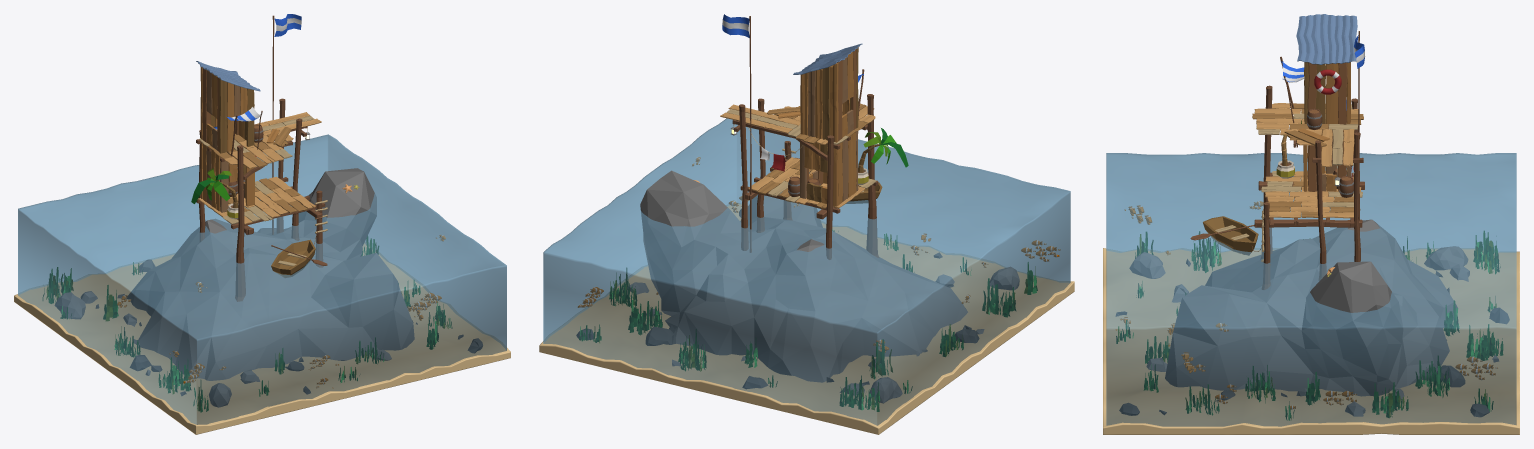
The model's file is low_poly_sea_port.glb.
The picture shows the model from 3 angles, left to right: view 1: azimuth 30°, elevation 25°; view 2: azimuth 150°, elevation 25°; view 3: azimuth 270°, elevation 25°; orthographic projection. The views are drawn at different scales.
Parts seen in each view (by area): view 1: Water Surface_2, Main Rock_63, Sand_61, Walls_68, Support Beams_66, Wood Plank Floors_71, Seaweed.296_0, Rock Support Light_64, TILES.052_70, TILES.041_69, Boat_26, Rock Support Dark_62 (+2 smaller); view 2: Water Surface_2, Main Rock_63, Sand_61, Walls_68, Support Beams_66, Seaweed.296_0, Wood Plank Floors_71, Rock Support Light_64, Rock Support Dark_62, TILES.052_70, TILES.041_69, Roof_67 (+1 smaller); view 3: Water Surface_2, Main Rock_63, Sand_61, Seaweed.296_0, Support Beams_66, Walls_68, Wood Plank Floors_71, Roof_67, Rock Support Light_64, TILES.052_70, TILES.041_69, Boat_26 (+5 smaller).
Part boxes in pixels (x1,y1,x2,y2): Water Surface_2: (18, 134, 506, 424); Main Rock_63: (126, 168, 414, 380); Sand_61: (14, 242, 510, 434); Walls_68: (200, 67, 254, 212); Support Beams_66: (196, 98, 325, 301); Wood Plank Floors_71: (198, 112, 321, 224); Seaweed.296_0: (43, 236, 451, 412); Rock Support Light_64: (55, 291, 391, 407); TILES.052_70: (207, 127, 308, 213); TILES.041_69: (199, 116, 314, 224); Boat_26: (271, 239, 315, 277); Rock Support Dark_62: (96, 260, 482, 395); Water Surface_2: (543, 118, 1070, 425); Main Rock_63: (640, 170, 967, 382); Sand_61: (539, 203, 1074, 434); Walls_68: (800, 47, 858, 206); Support Beams_66: (732, 94, 878, 259); Seaweed.296_0: (579, 229, 1037, 411); Wood Plank Floors_71: (720, 104, 875, 208); Rock Support Light_64: (630, 267, 1019, 403); Rock Support Dark_62: (576, 208, 979, 388); TILES.052_70: (757, 103, 867, 208); TILES.041_69: (727, 109, 876, 202); Roof_67: (793, 43, 862, 74); Water Surface_2: (1106, 153, 1516, 426); Main Rock_63: (1165, 219, 1457, 396); Sand_61: (1103, 248, 1519, 434); Seaweed.296_0: (1116, 231, 1502, 419); Support Beams_66: (1254, 85, 1364, 289); Walls_68: (1303, 62, 1354, 191); Wood Plank Floors_71: (1254, 103, 1361, 218); Roof_67: (1296, 14, 1357, 64); Rock Support Light_64: (1129, 246, 1498, 416); TILES.052_70: (1252, 103, 1363, 217); TILES.041_69: (1258, 104, 1362, 207); Boat_26: (1203, 216, 1258, 255).
Size of the model in its own units: 2.01 by 1.78 by 2.01.
